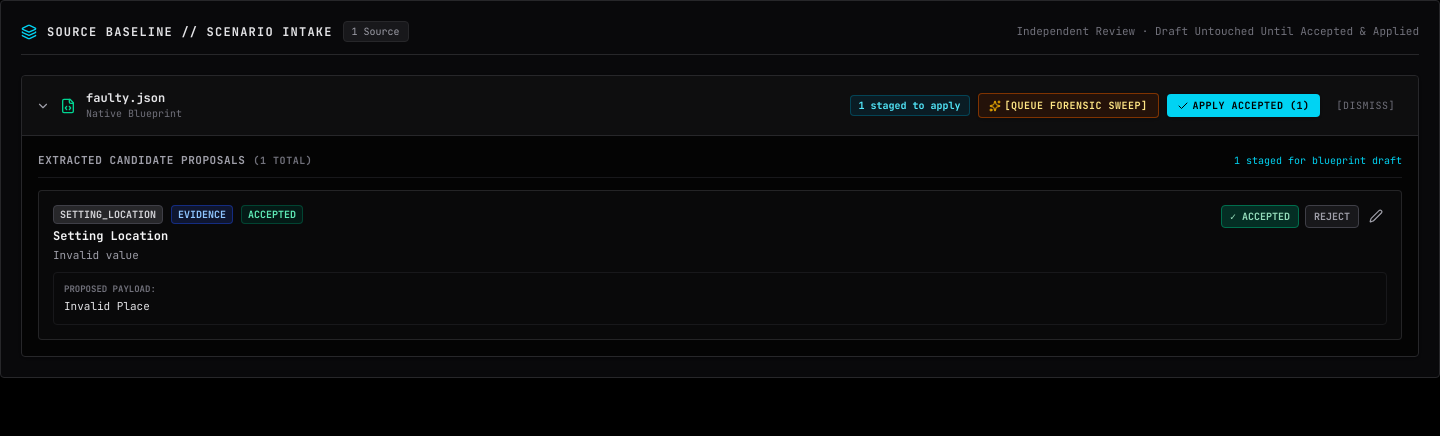
Test: ScenarioBaselinePanel Candidate Atomicity Proof › renders returned batch failure in the source card without throwing an exception
// Click Apply Accepted and verify error banner is displayed cleanly
Click the button with id "batch-apply-btn-analysis-fail-1" at (1243, 106), box left=1166, top=94, right=1320, bottom=117
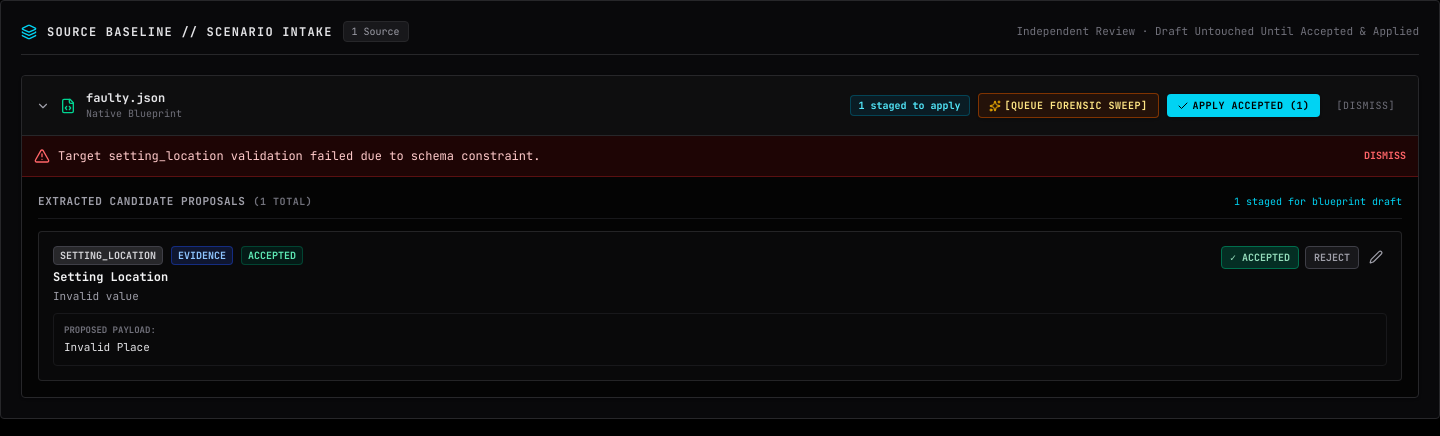
Result: the element with id "source-card-analysis-fail-1" shows "Target setting_location validation failed" at left=58, top=148, right=540, bottom=164
